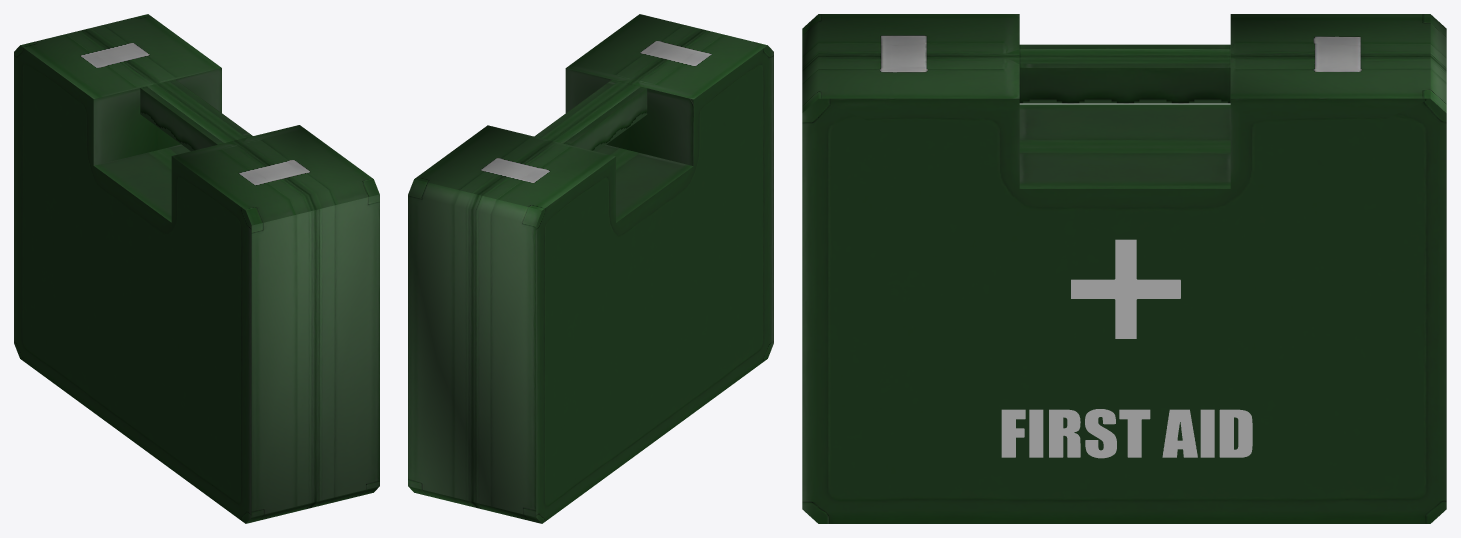
Rendered from FirstAid.fbx.
3 views of the same model, side by side, from view 1: azimuth 30°, elevation 25°; view 2: azimuth 150°, elevation 25°; view 3: azimuth 270°, elevation 25° (orthographic). The views are drawn at different scales.
Visible parts, largest first — view 1: FirstAidLow; view 2: FirstAidLow; view 3: FirstAidLow.
Part boxes in pixels (x1,y1,x2,y2): FirstAidLow: (14, 14, 379, 523); FirstAidLow: (408, 14, 773, 523); FirstAidLow: (802, 14, 1446, 523).
Size of the model in its own units: 63.05 by 146 by 200.
